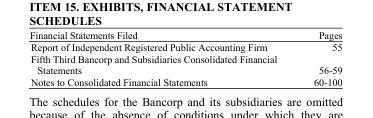table: (28, 28, 341, 86)
table column: (28, 28, 294, 86), (294, 28, 341, 86)
table column header: (28, 28, 341, 40)
table row: (28, 52, 341, 75), (28, 28, 341, 40), (28, 40, 341, 52), (28, 75, 341, 86)
